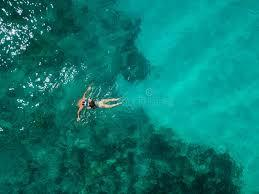swimmer: (75, 85, 94, 123), (87, 97, 123, 111)
